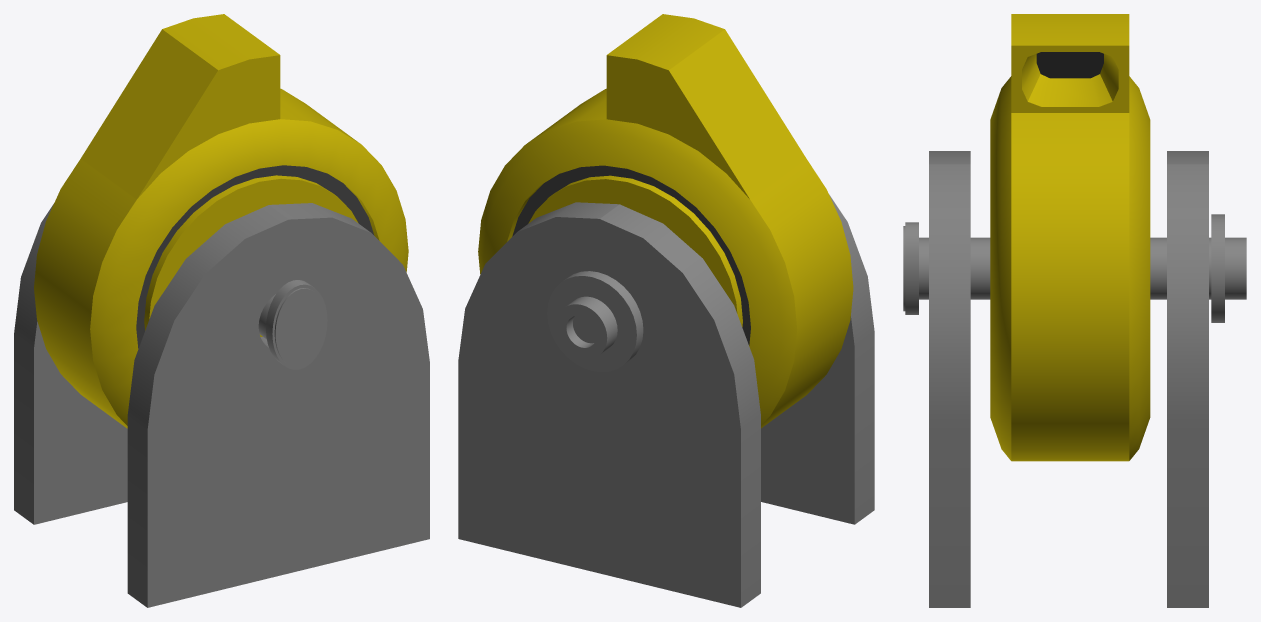
File: Steamy.fbx
3 views of the same model, side by side, from view 1: azimuth 30°, elevation 25°; view 2: azimuth 150°, elevation 25°; view 3: azimuth 270°, elevation 25° (orthographic). The views are drawn at different scales.
Visible parts, largest first — view 1: Cube, Circle, Cube.001; view 2: Cube.001, Circle, Cube; view 3: Circle, Cube, Cube.001.
Boxes of the visible parts, bbox=[...] form: Cube: bbox=[127, 203, 429, 607]; Circle: bbox=[34, 14, 408, 428]; Cube.001: bbox=[14, 204, 127, 524]; Cube.001: bbox=[458, 202, 760, 607]; Circle: bbox=[478, 14, 853, 428]; Cube: bbox=[761, 194, 874, 524]; Circle: bbox=[903, 14, 1246, 461]; Cube: bbox=[929, 151, 970, 607]; Cube.001: bbox=[1167, 151, 1208, 607].
Size of the model in its own units: 200 by 291 by 178.
